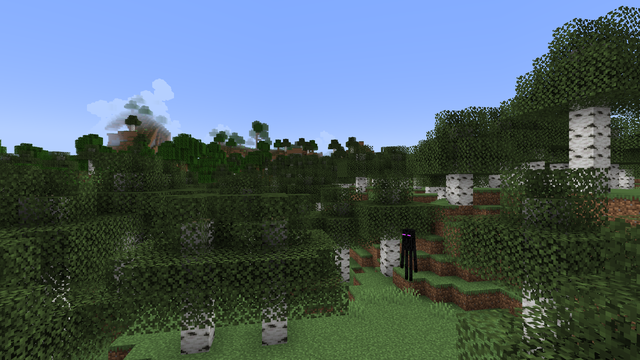endermens: (401, 226, 416, 280)
